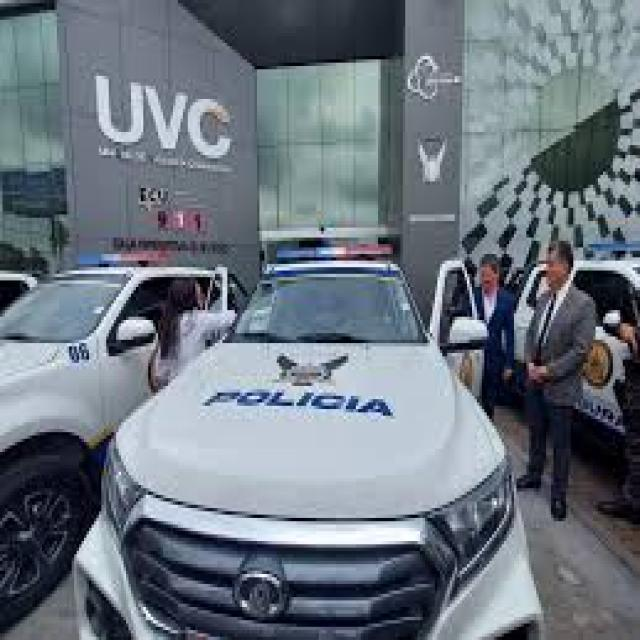CMT: (93, 257, 522, 640)
